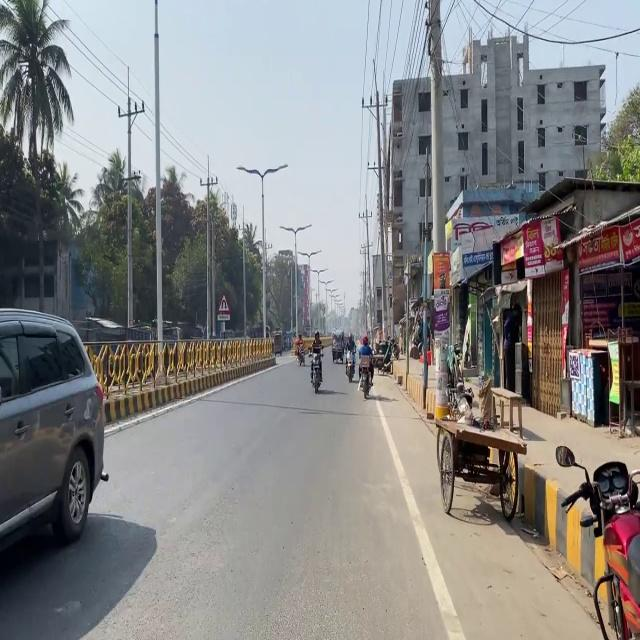Broken-road: (0, 332, 124, 533)
Fallen-tree: (554, 444, 639, 639), (357, 358, 374, 399), (308, 347, 323, 393), (343, 347, 355, 381), (296, 344, 306, 366)
Garbage: (489, 386, 524, 438)
Garbage-bin: (293, 334, 305, 365)
Light-pole: (416, 6, 460, 412)
Pothole: (388, 351, 639, 637)
Rickshaw: (216, 293, 230, 321)
Traffic-cone: (434, 415, 527, 521)
